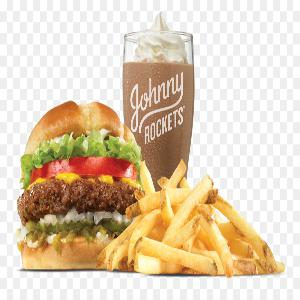cheeseburger: (11, 92, 148, 279)
fries: (121, 160, 290, 292)
